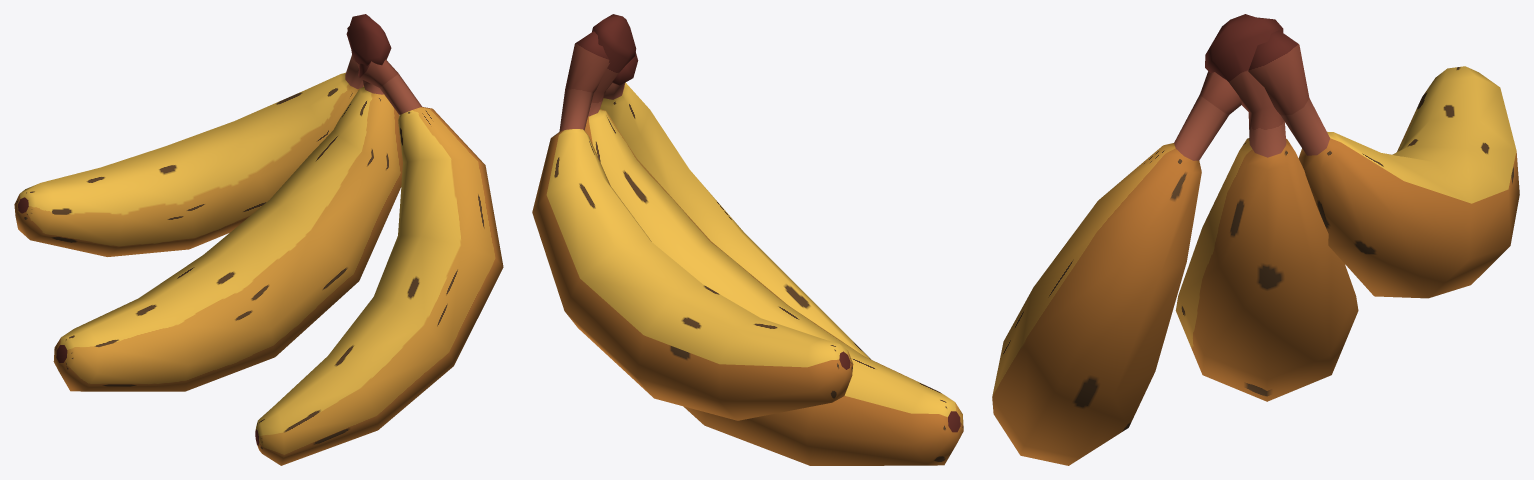
File: banana.fbx
3 views of the same model, side by side, from view 1: azimuth 30°, elevation 25°; view 2: azimuth 150°, elevation 25°; view 3: azimuth 270°, elevation 25° (orthographic). The views are drawn at different scales.
Visible parts, largest first — view 1: banana; view 2: banana; view 3: banana.
Part boxes in pixels (bbox=[...]): banana: bbox=[14, 14, 503, 465]; banana: bbox=[532, 14, 963, 465]; banana: bbox=[992, 14, 1519, 465].
Size of the model in its own units: 3.77 by 3.46 by 3.18.
Materials: 1 (1 with a texture image).
